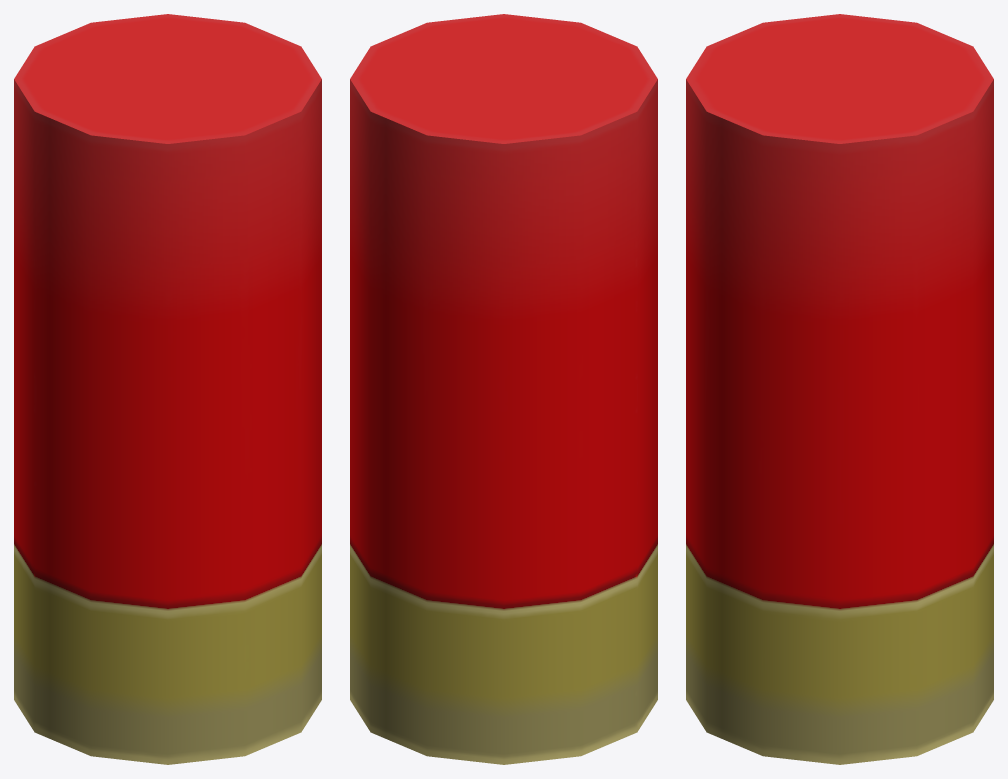
Rendered from Shell.fbx.
The picture shows the model from 3 angles, left to right: view 1: azimuth 30°, elevation 25°; view 2: azimuth 150°, elevation 25°; view 3: azimuth 270°, elevation 25°; orthographic projection.
Visible parts, largest first — view 1: Shell; view 2: Shell; view 3: Shell.
Boxes of the visible parts, bbox=[...] form: Shell: bbox=[14, 14, 321, 764]; Shell: bbox=[350, 14, 657, 764]; Shell: bbox=[686, 14, 993, 764].
Bounding box in the file's own units: 0.0254 × 0.0566 × 0.0254.
